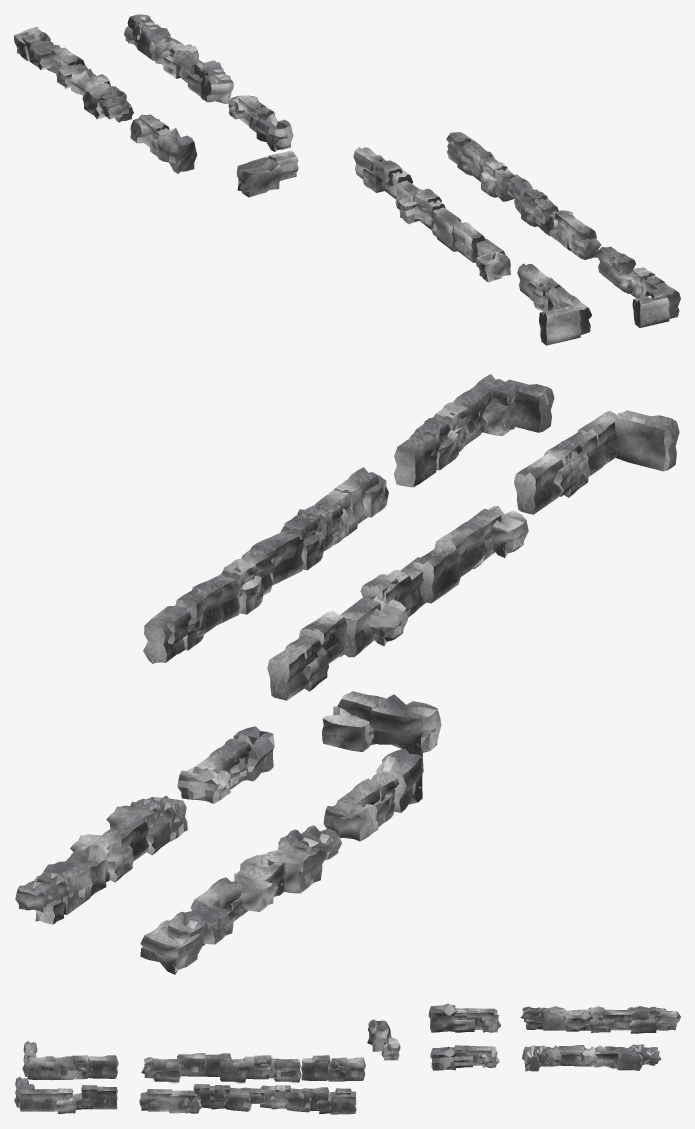
The model's file is Stones - Level 1.FBX.
3 views of the same model, one above another, from view 1: azimuth 30°, elevation 25°; view 2: azimuth 150°, elevation 25°; view 3: azimuth 270°, elevation 25° (orthographic). The views are drawn at different scales.
Visible parts, largest first — view 1: Stones; view 2: Stones; view 3: Stones.
Boxes of the visible parts, box(x1,y1,x2,y2) form: Stones: box(14, 14, 680, 345); Stones: box(15, 374, 679, 974); Stones: box(14, 1003, 680, 1114).
Bounding box in the file's own units: 238 × 36.64 × 734.
1 material, 1 textured.
